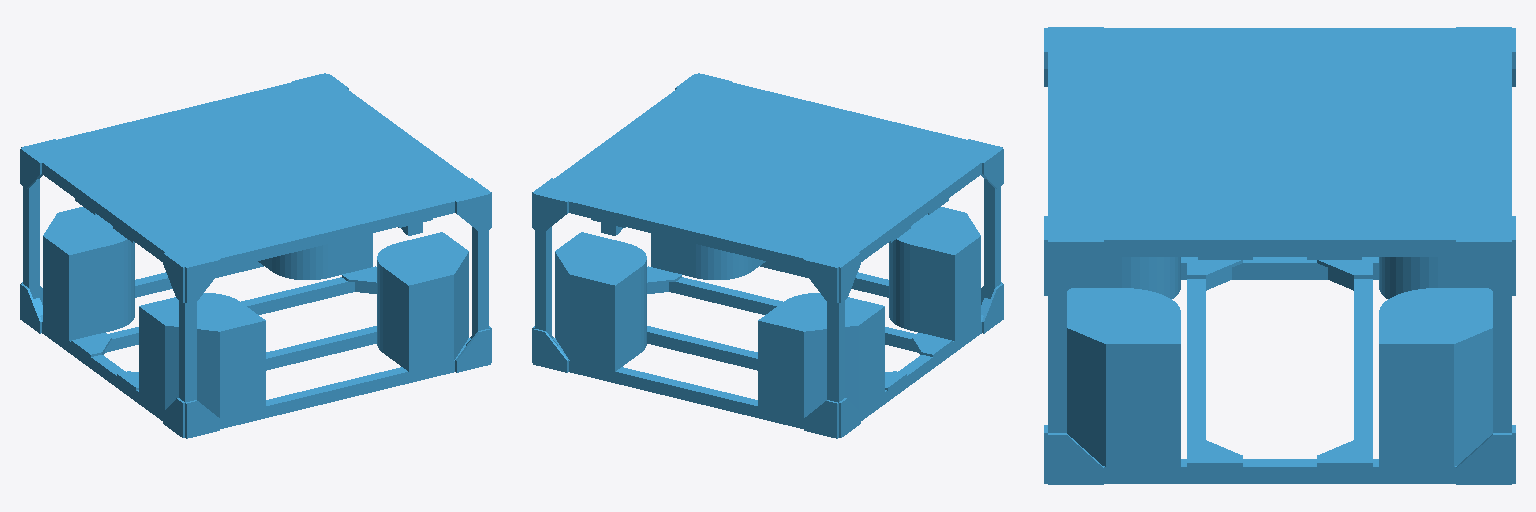
robot.urdf — tidybot_base:
<?xml version="1.0"?>
<robot name="tidybot_base">

  <!-- Root frame at (0,0,0) -->
  <link name="base_root"/>

  <joint name="base_root_to_base_link" type="fixed">
    <parent link="base_root"/>
    <child link="base_link"/>
    <origin xyz="0 0 0" rpy="0 0 0"/>
  </joint>

  <link name="base_link">
    <inertial>
      <origin xyz="0 0 0.035" rpy="0 0 0"/>
      <mass value="60"/>
      <inertia 
        ixx="0.001" ixy="0.0" ixz="0.0"
        iyy="0.001" iyz="0.0"
        izz="0.001"/>
    </inertial>

    <!-- Visual: base body -->
    <visual>
      <origin xyz="0 0 0" rpy="0 0 0"/>
      <geometry>
        <mesh filename="meshes/body.stl"/>
      </geometry>
      <material name="silver"/>
    </visual>

    <!-- Visual: arm plate -->
    <visual>
      <origin xyz="0 0 0" rpy="0 0 0"/>
      <geometry>
        <mesh filename="meshes/arm_plate.stl"/>
      </geometry>
      <material name="black"/>
    </visual>

    <!-- Collision: base body -->
    <collision>
      <origin xyz="0 0 0" rpy="0 0 0"/>
      <geometry>
        <mesh filename="meshes/body.stl"/>
      </geometry>
    </collision>

    <!-- Collision: arm plate -->
    <collision>
      <origin xyz="0 0 0" rpy="0 0 0"/>
      <geometry>
        <mesh filename="meshes/arm_plate.stl"/>
      </geometry>
    </collision>

  </link>

</robot>

--- Render facts (derived) ---
The picture shows the robot from 3 angles, left to right: view 1: azimuth 30°, elevation 25°; view 2: azimuth 150°, elevation 25°; view 3: azimuth 270°, elevation 25°; orthographic projection.
Model tidybot_base with 2 links and 1 joints (1 fixed), rooted at base_root, posed every joint at zero.
Visible links, largest first — view 1: base_link; view 2: base_link; view 3: base_link.
Boxes of the visible links, x1,y1,x2,y2 form: base_link: (20, 73, 491, 438); base_link: (532, 73, 1003, 438); base_link: (1044, 27, 1515, 484).
Bounding box of the posed robot: 0.548 × 0.508 × 0.29 m (x, y, z).
1 mesh visuals loaded from 2 distinct referenced files (1 binary STL); not drawn: 1 (reference not matched to a file when rendering).